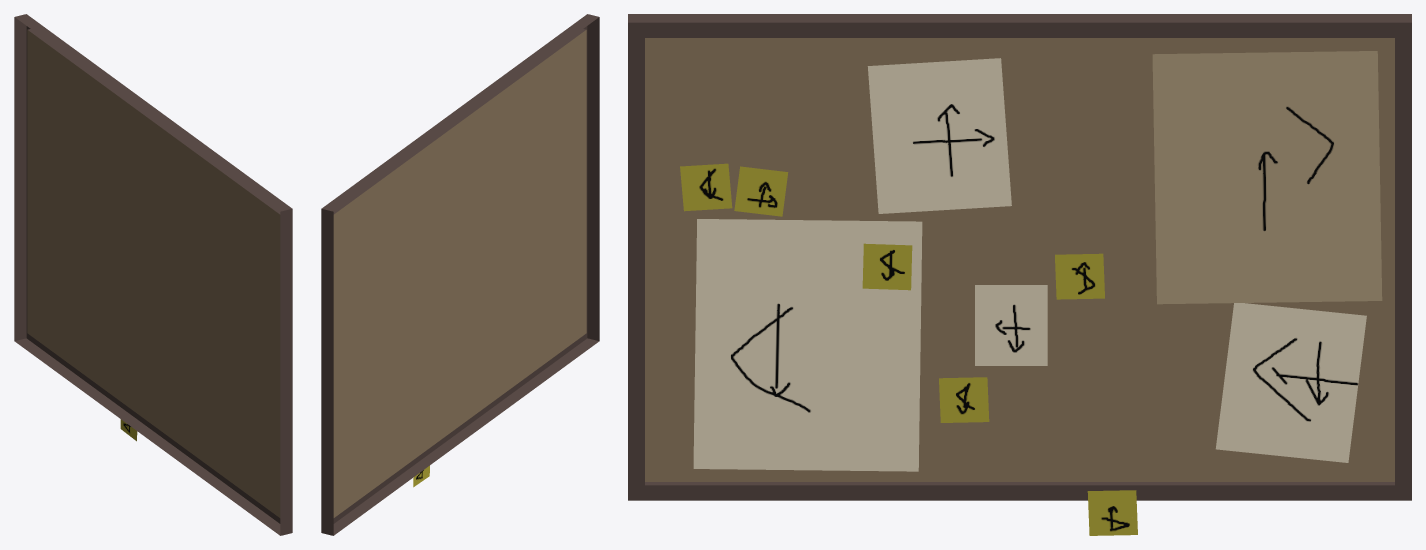
The model's file is SM_Billboard.fbx.
3 views of the same model, side by side, from view 1: azimuth 30°, elevation 25°; view 2: azimuth 150°, elevation 25°; view 3: azimuth 270°, elevation 25° (orthographic). The views are drawn at different scales.
Visible parts, largest first — view 1: BillBoard; view 2: BillBoard; view 3: BillBoard, Billboard notes.
Boxes of the visible parts, left/top/right/bottom form: BillBoard: left=14, top=14, right=292, bottom=535; BillBoard: left=321, top=14, right=599, bottom=535; BillBoard: left=628, top=14, right=1411, bottom=500; Billboard notes: left=680, top=51, right=1382, bottom=535.
Size of the model in its own units: 6.55 by 165 by 229.
